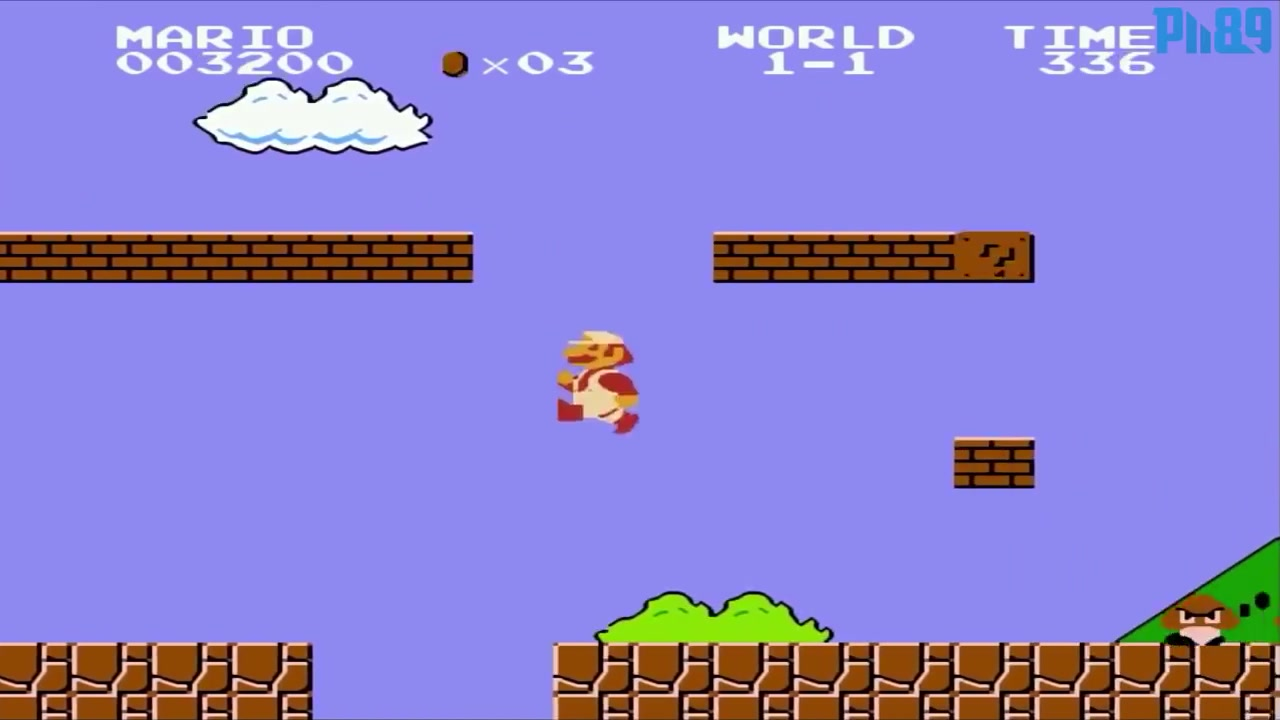mario: (552, 324, 640, 439)
